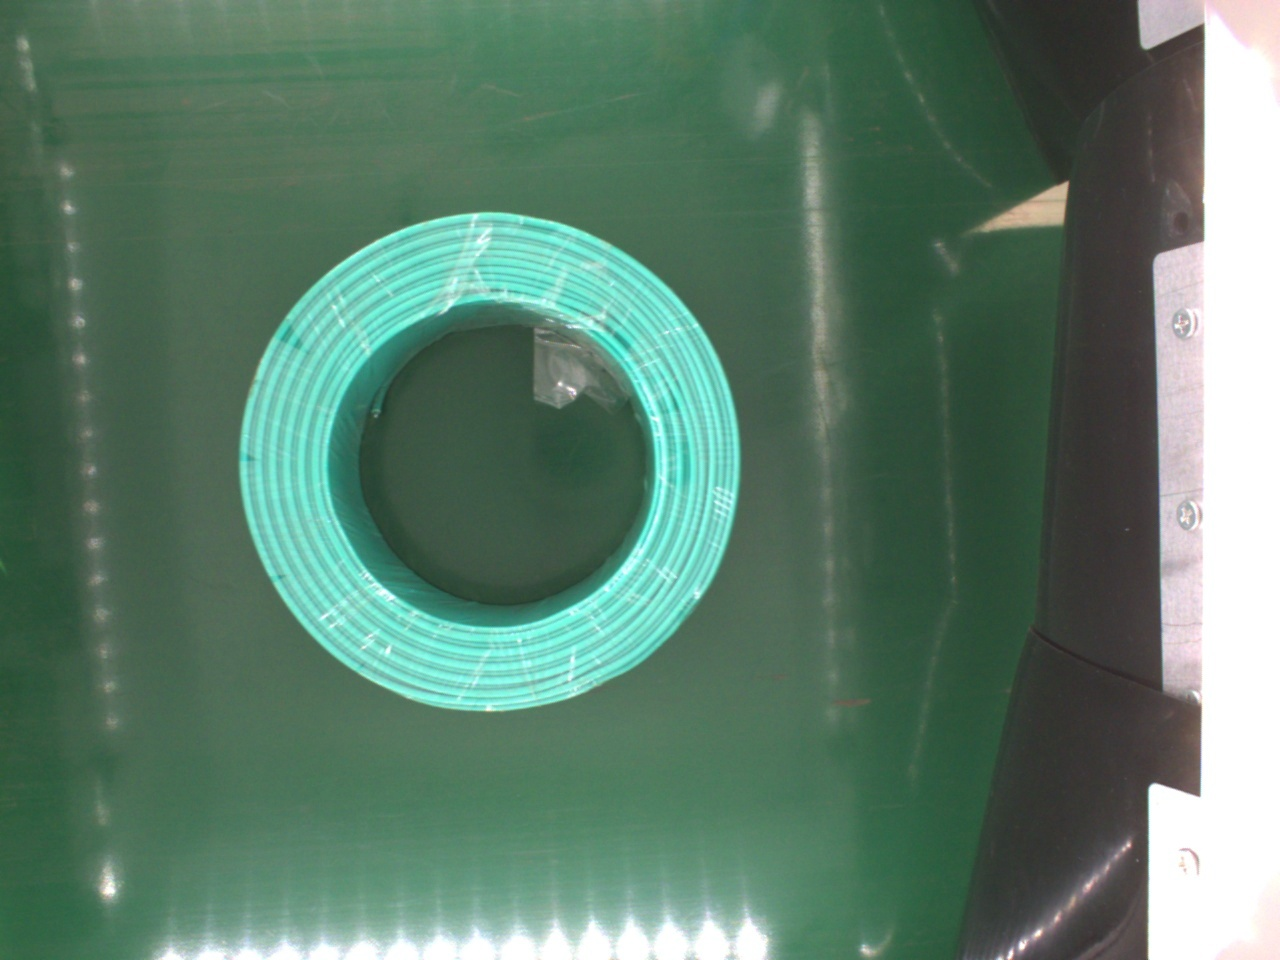green: (237, 210, 742, 712)
